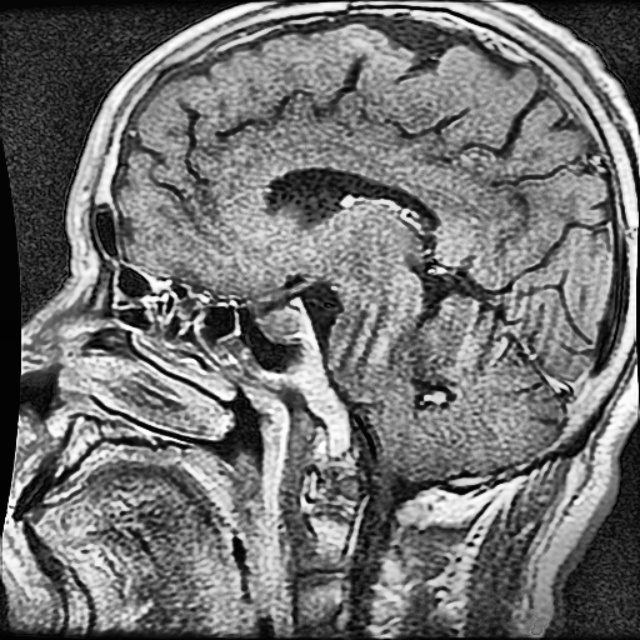Pituitary: (259, 298, 310, 344)
